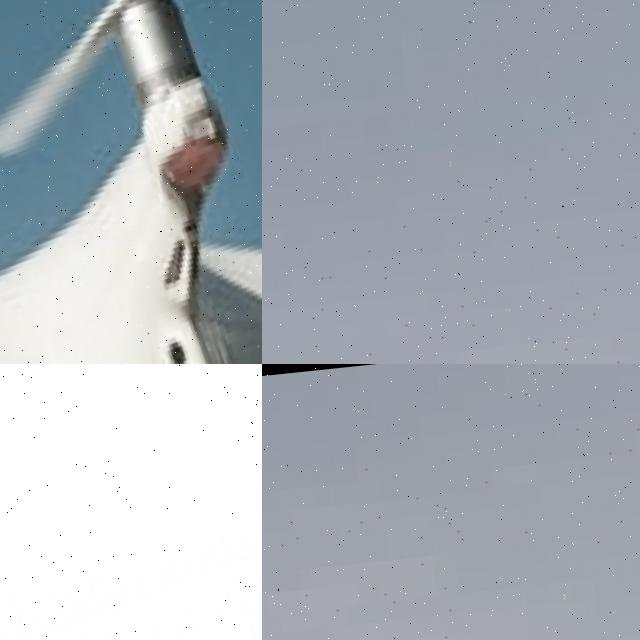drone: (0, 0, 262, 364), (0, 505, 262, 640)
